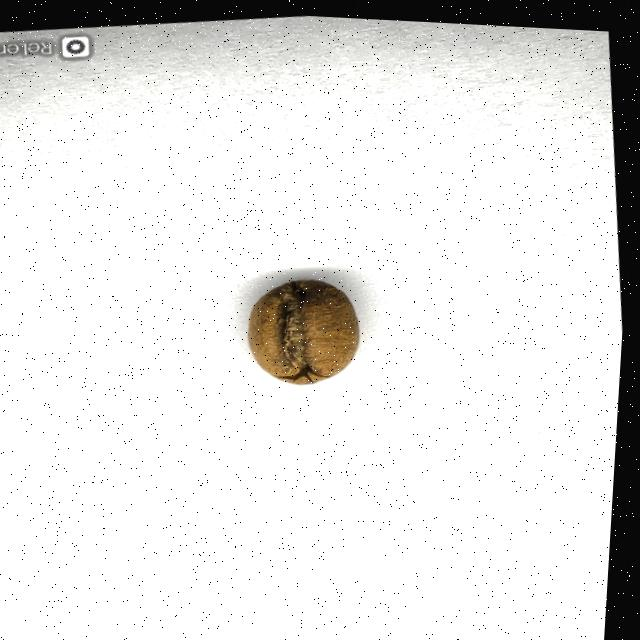Quaker: (248, 272, 367, 386)
